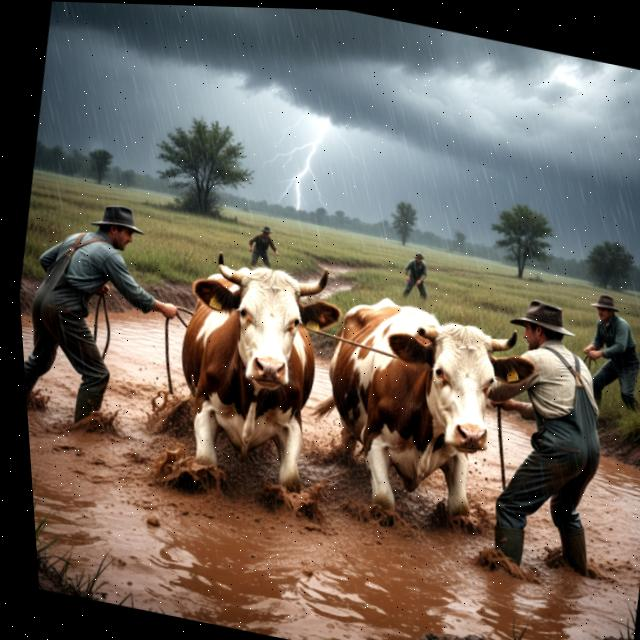civilian: (455, 285, 640, 590), (11, 166, 204, 442), (564, 289, 640, 421), (237, 215, 291, 276), (395, 247, 440, 310)
cow: (286, 279, 544, 549), (139, 240, 361, 506)
